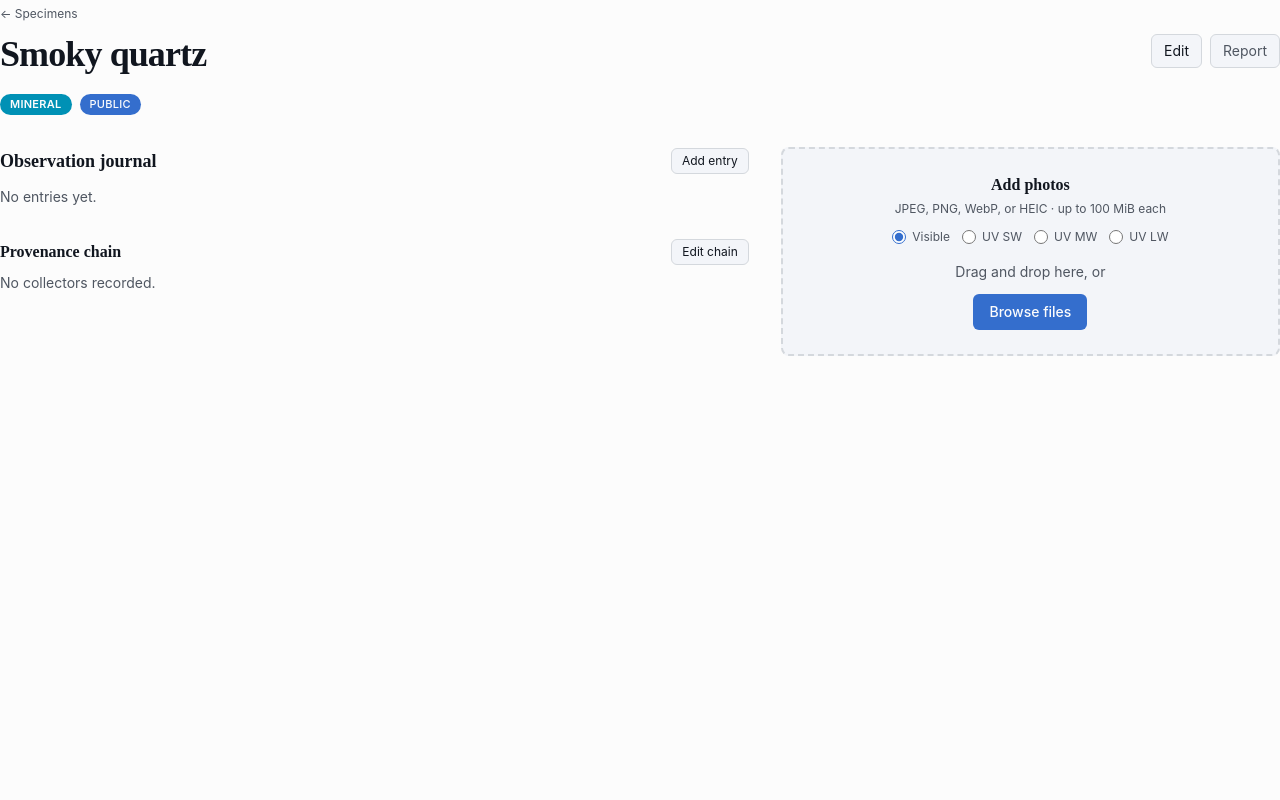
it: SpecimenDetail route › report flow (mi-b2q0) › opens the modal, POSTs the report, and closes on success
The width and height of the screenshot is (1280, 800).
Expected: the element with test id "specimen-detail" is shown, [0,0,1279,356]
Click the button with test id "report-specimen": [1245, 51] box [1210,34,1279,68]
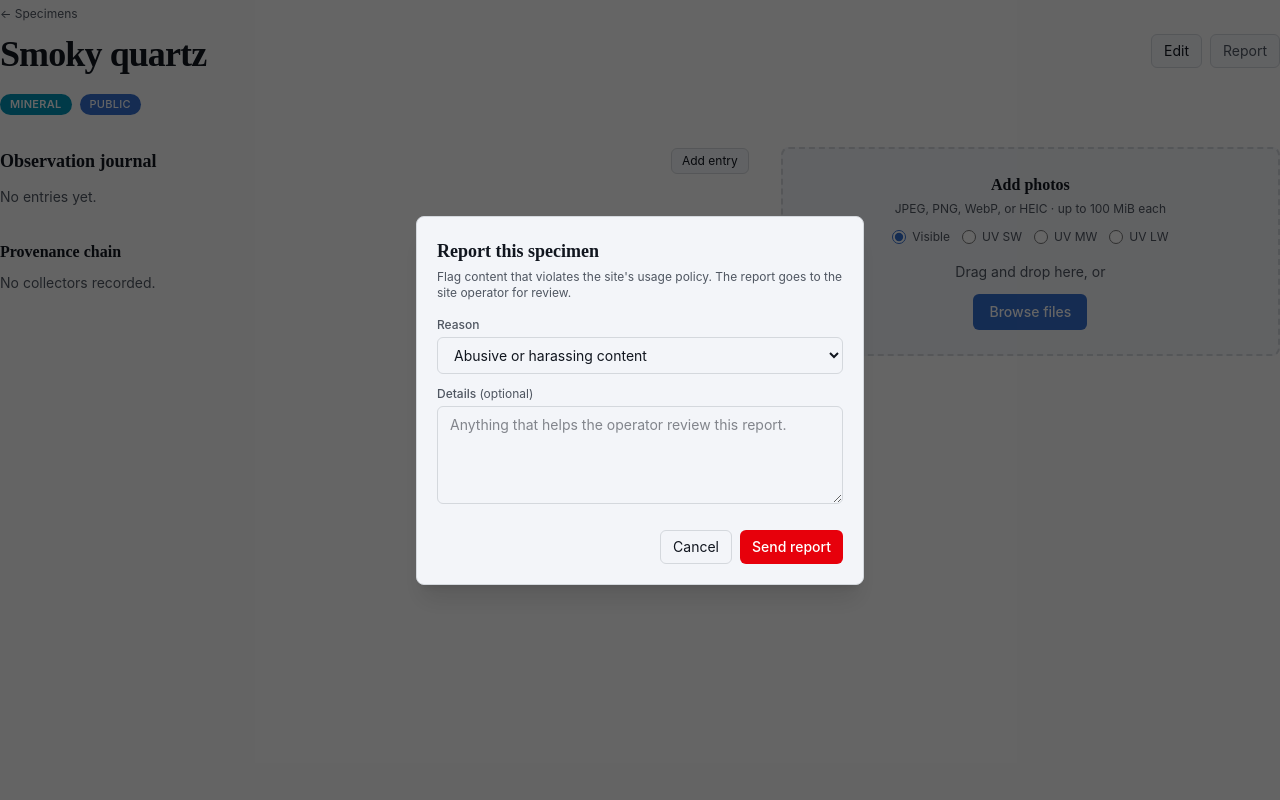
Expected: the dialog with test id "report-modal" is shown
Select "Spam or misleading" in the dropdown with test id "report-reason": [640, 355] box [437,336,843,374]
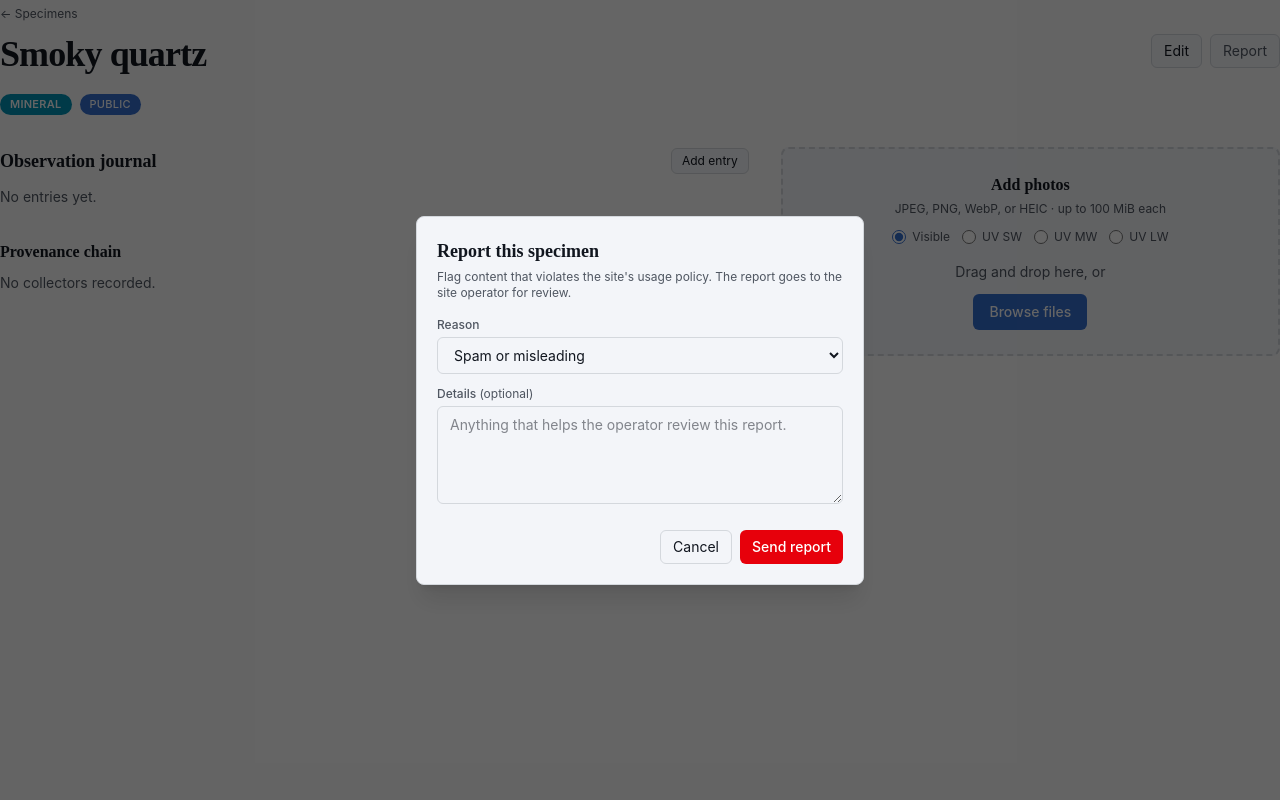
In the text box with test id "report-details": [640, 454] box [437,406,843,504], type "looks like spam"
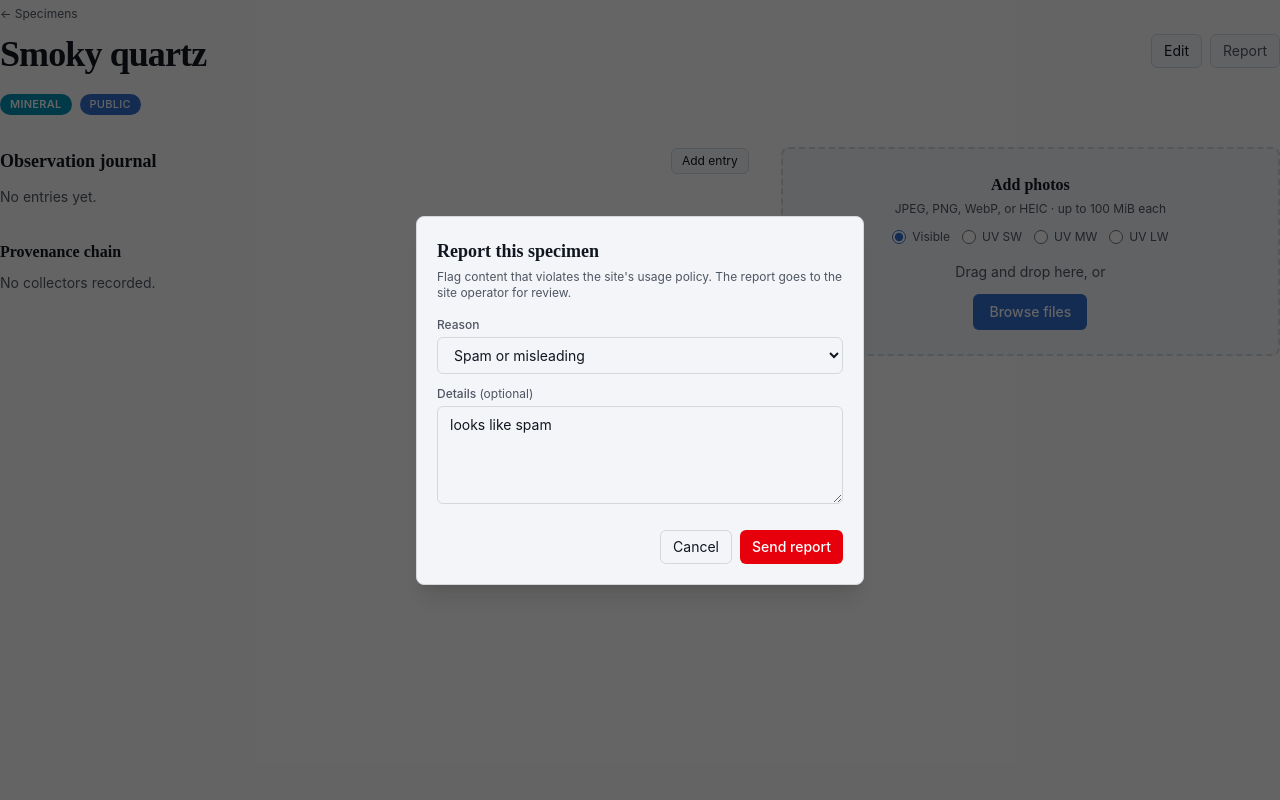
Click the button with test id "report-submit": [792, 546] box [740,530,843,564]
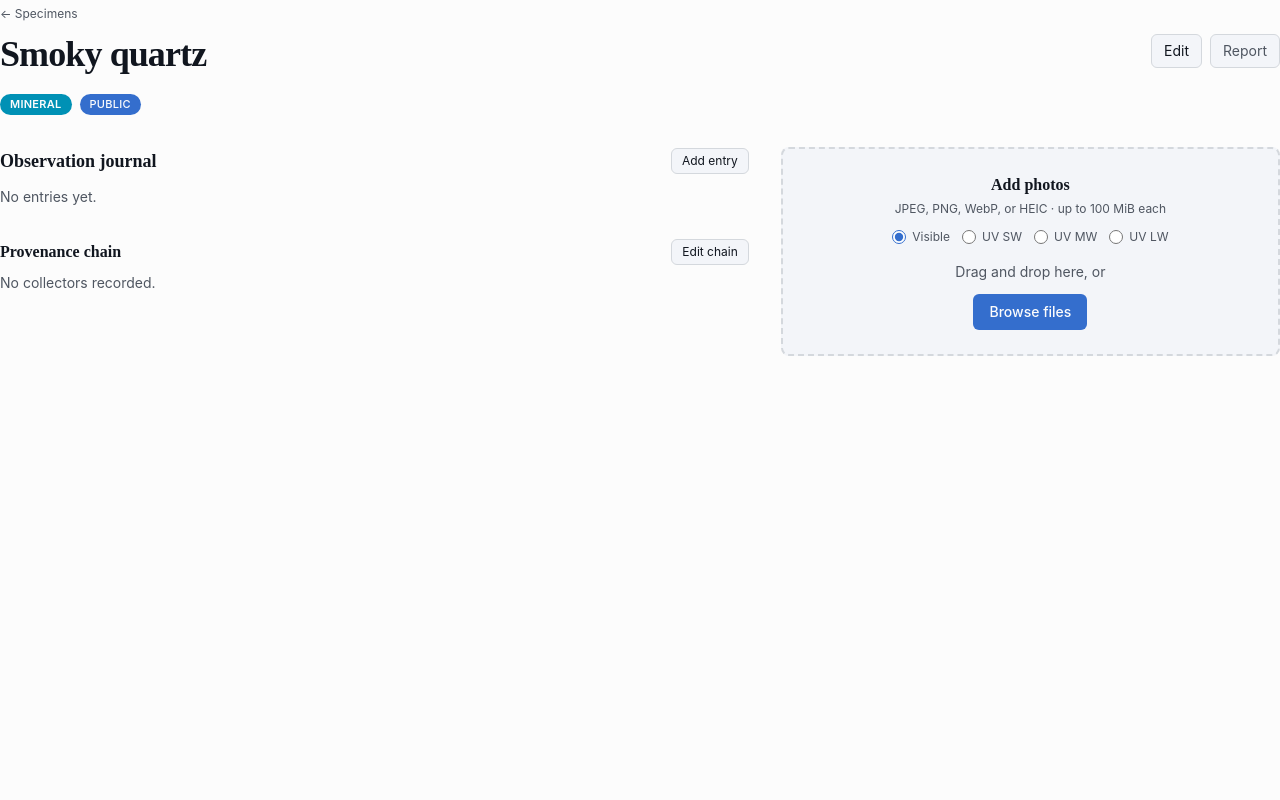
Expected: the dialog with test id "report-modal" is gone
